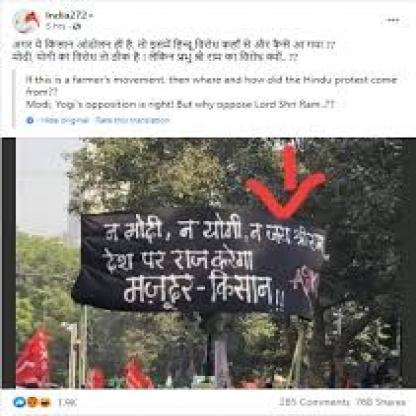BANNER: (73, 205, 327, 319)
